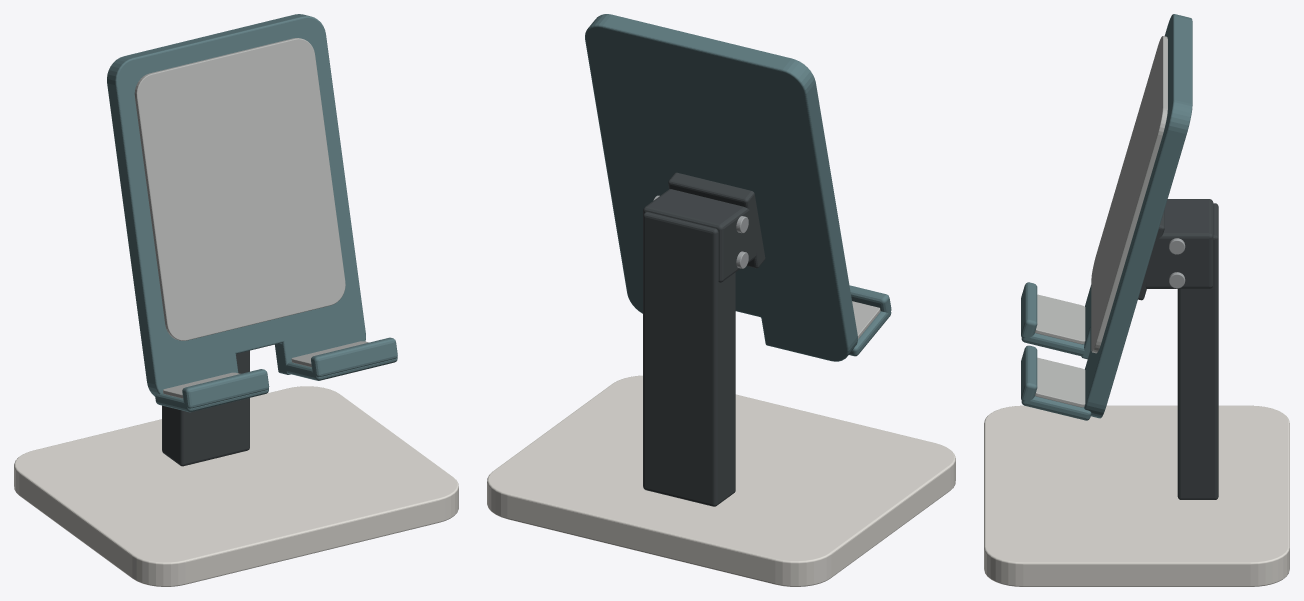
File: stand-v01.glb
The picture shows the model from 3 angles, left to right: view 1: azimuth 30°, elevation 25°; view 2: azimuth 150°, elevation 25°; view 3: azimuth 270°, elevation 25°; orthographic projection. The views are drawn at different scales.
Visible parts, largest first — view 1: BaseBody, Removable back pad, Cradle shell, Support upright, Cradle retaining lip, Cradle retaining lip.001, Cradle toe, Cradle toe.001; view 2: BaseBody, Cradle shell, Support upright, Fixed bracket, Cradle contact seat, Cradle retaining lip; view 3: BaseBody, Cradle shell, Support upright, Removable back pad, Fixed bracket, Removable toe pad, Removable toe pad.001, Cradle retaining lip.001, Cradle retaining lip, Cradle toe.001, Cradle toe.
Part boxes in pixels (<box>): BaseBody: <box>14,386,458,586</box>; Removable back pad: <box>134,38,345,340</box>; Cradle shell: <box>107,14,365,396</box>; Support upright: <box>162,350,249,466</box>; Cradle retaining lip: <box>182,369,269,408</box>; Cradle retaining lip.001: <box>311,337,397,376</box>; Cradle toe: <box>155,389,268,412</box>; Cradle toe.001: <box>284,357,397,380</box>; BaseBody: <box>487,375,955,586</box>; Cradle shell: <box>585,14,857,361</box>; Support upright: <box>643,212,735,506</box>; Fixed bracket: <box>643,189,756,282</box>; Cradle contact seat: <box>668,172,765,268</box>; Cradle retaining lip: <box>849,285,891,313</box>; BaseBody: <box>984,405,1289,586</box>; Cradle shell: <box>1081,14,1192,418</box>; Support upright: <box>1177,203,1218,499</box>; Removable back pad: <box>1091,36,1167,353</box>; Fixed bracket: <box>1145,199,1213,288</box>; Removable toe pad: <box>1035,294,1085,344</box>; Removable toe pad.001: <box>1035,357,1085,407</box>; Cradle retaining lip.001: <box>1021,345,1037,401</box>; Cradle retaining lip: <box>1021,282,1037,338</box>; Cradle toe.001: <box>1021,396,1091,420</box>; Cradle toe: <box>1021,333,1085,356</box>.
Bounding box in the file's own units: 0.11 × 0.1483 × 0.09.
